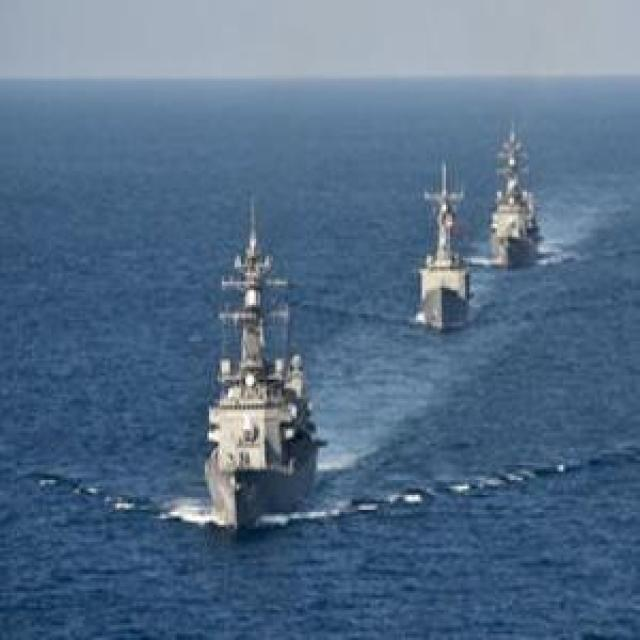navalvessels: (202, 208, 322, 525), (416, 166, 475, 324), (480, 124, 538, 260)
